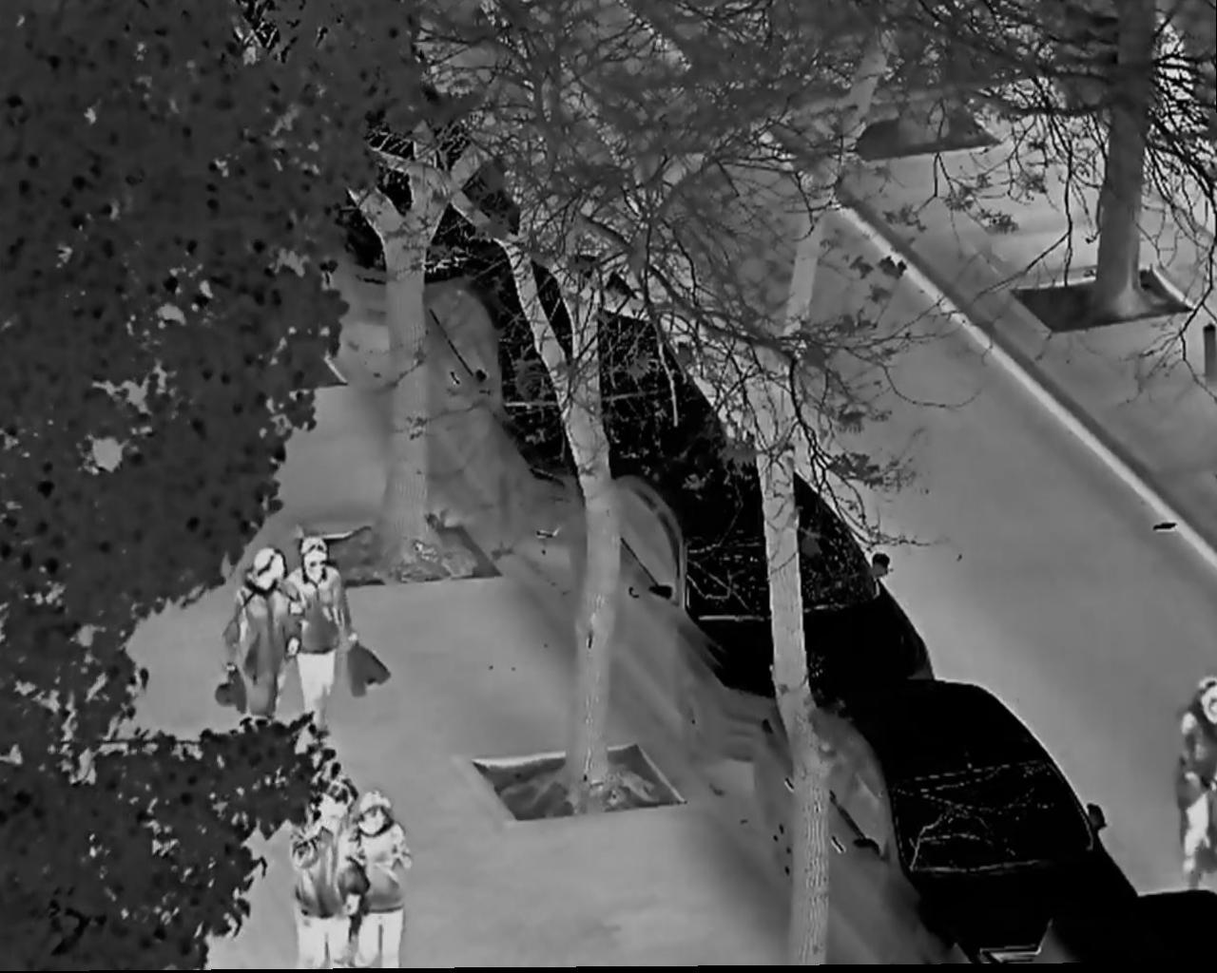person: (283, 536, 362, 733), (220, 545, 297, 740), (288, 776, 353, 966), (348, 795, 408, 971), (1174, 676, 1217, 884)
